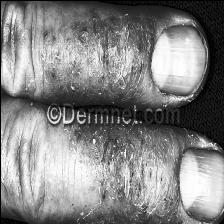Non-Cancerous Skin Condition: (32, 132, 202, 224), (43, 17, 185, 100)
